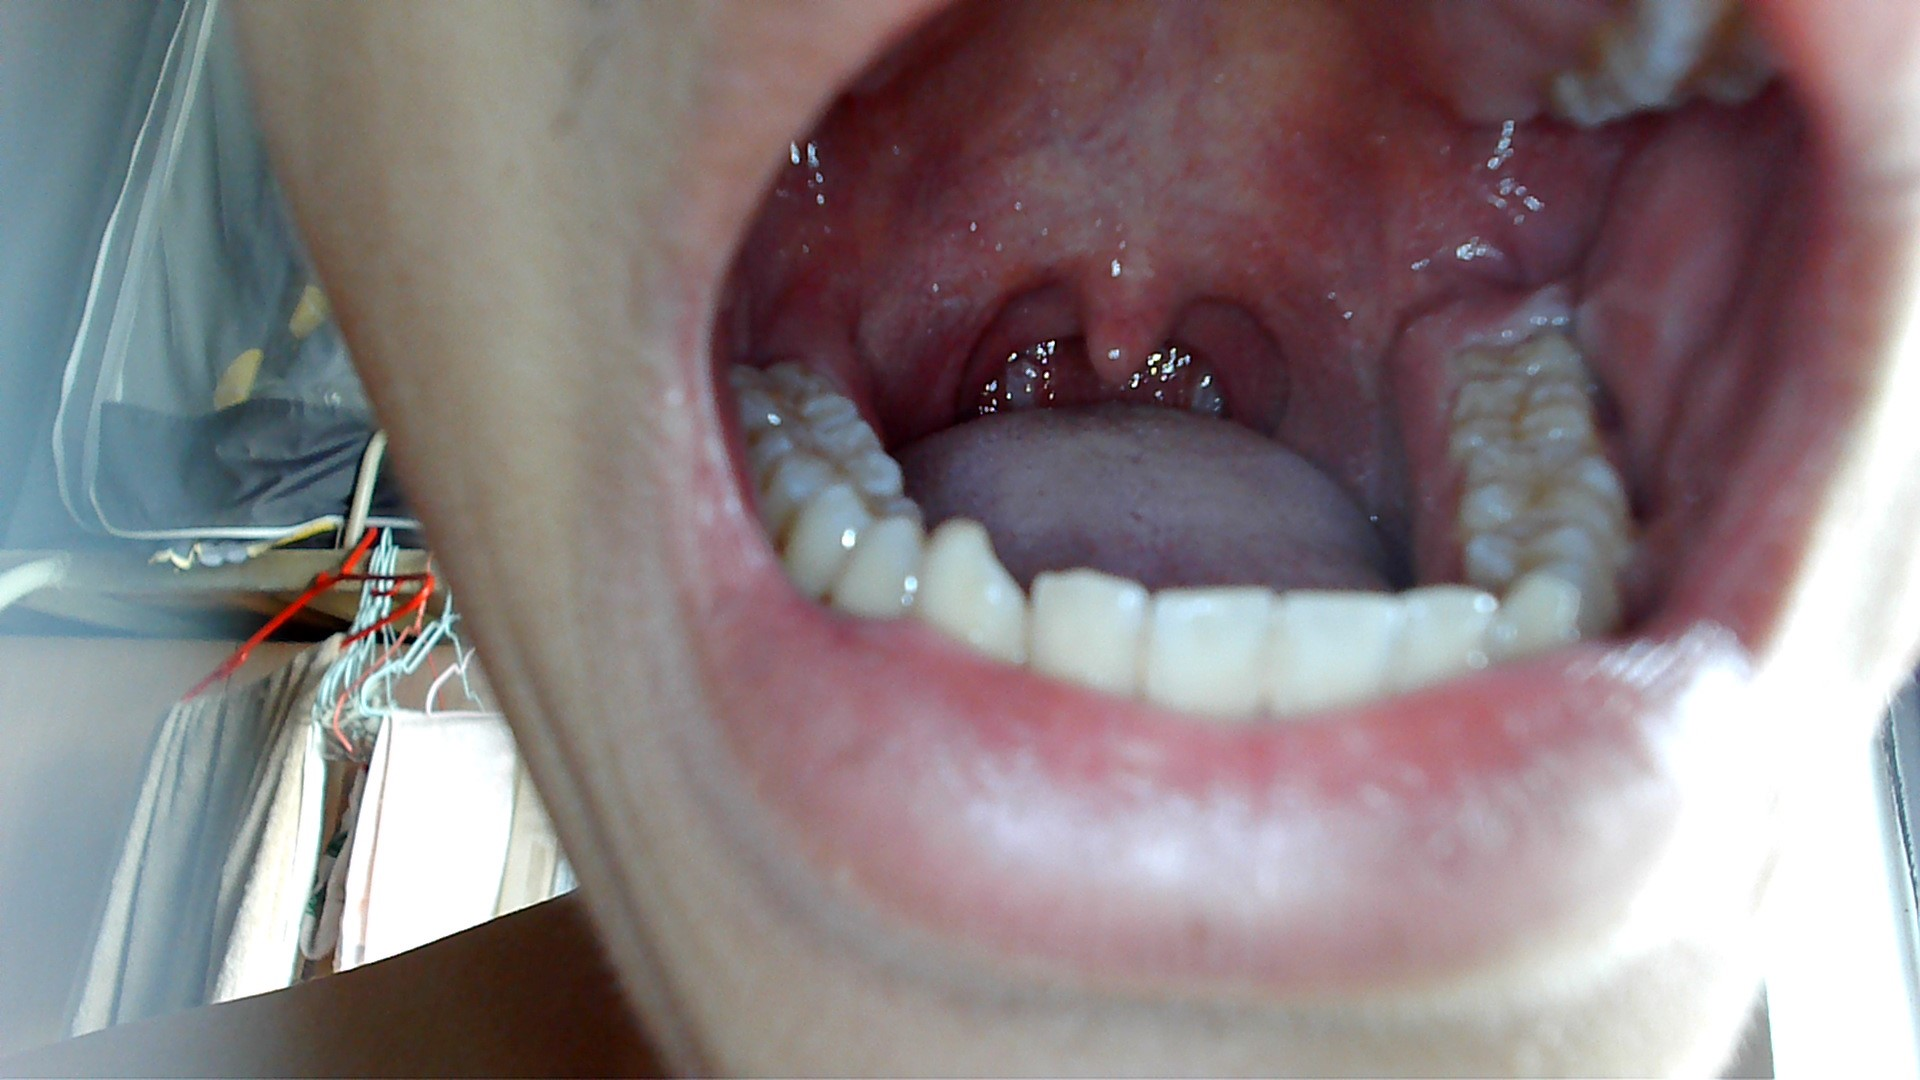throat: (926, 256, 1034, 419), (1226, 252, 1317, 436)
